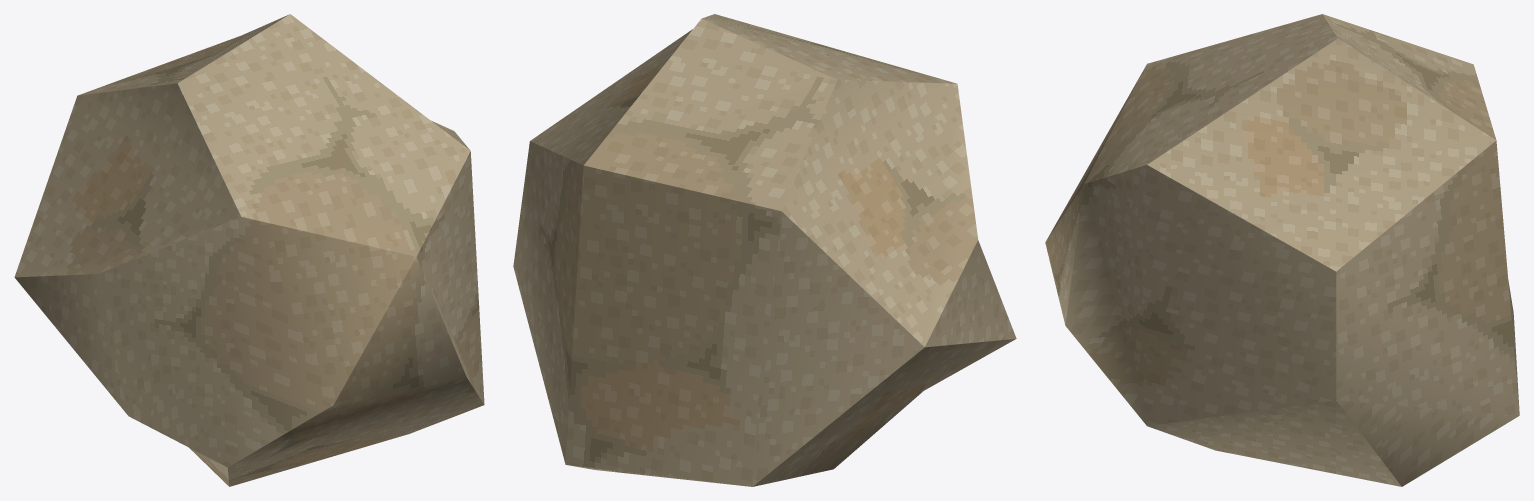
File: 0111_Falling_Rock.glb
The picture shows the model from 3 angles, left to right: view 1: azimuth 30°, elevation 25°; view 2: azimuth 150°, elevation 25°; view 3: azimuth 270°, elevation 25°; orthographic projection. The views are drawn at different scales.
Parts seen in each view (by area): view 1: part_0; view 2: part_0; view 3: part_0.
Boxes of the visible parts, box(x1,y1,x2,y2) form: part_0: box(14, 14, 484, 486); part_0: box(513, 14, 1016, 486); part_0: box(1045, 14, 1519, 486).
Bounding box in the file's own units: 1.89 × 1.83 × 1.86.
1 material, 1 textured.
